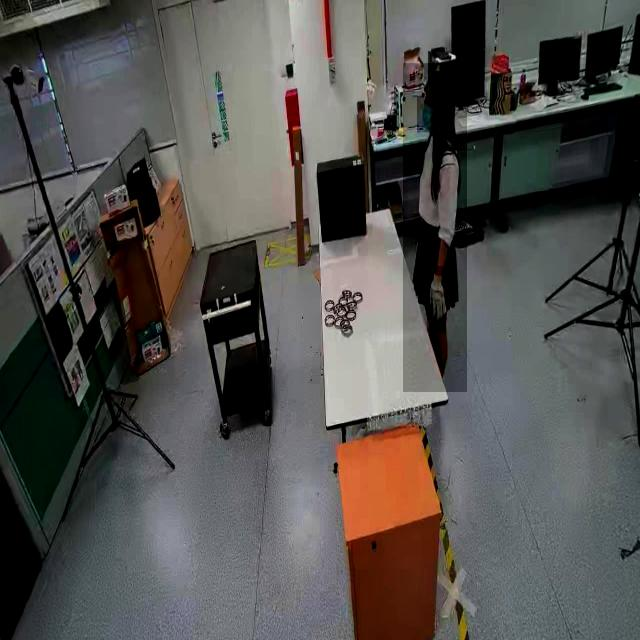face_mask: (417, 96, 437, 132)
hand_glove: (426, 266, 446, 333)
head_nohelmet: (427, 69, 455, 90)
person: (403, 63, 467, 393)
